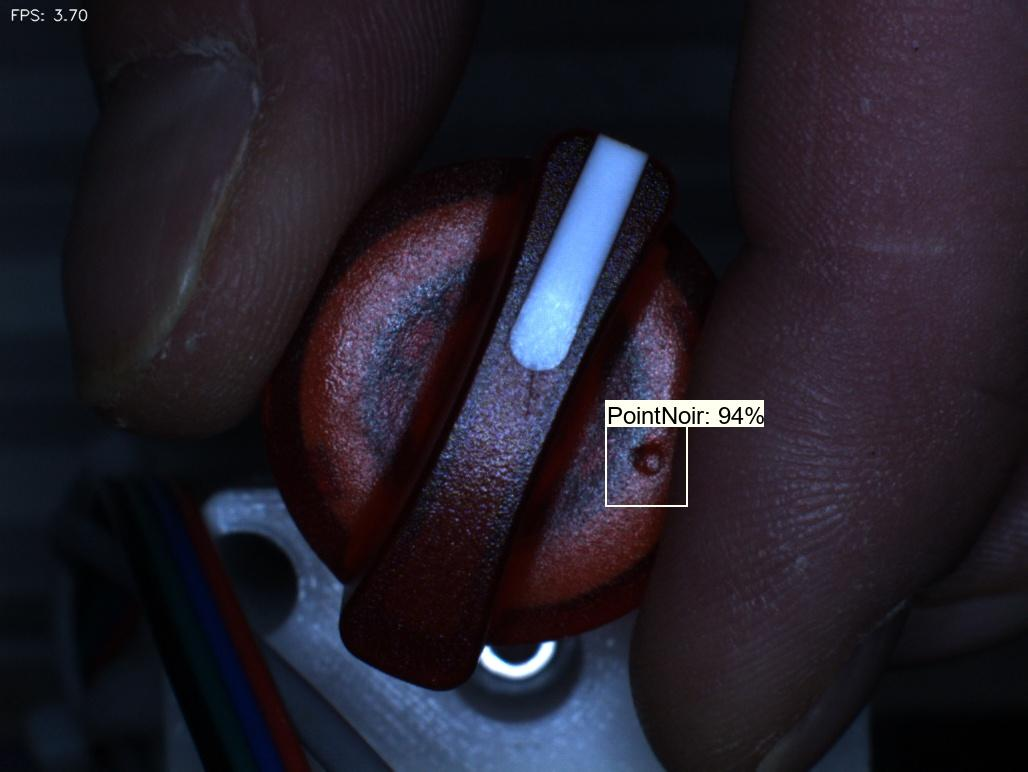Choc: (609, 431, 694, 506)
